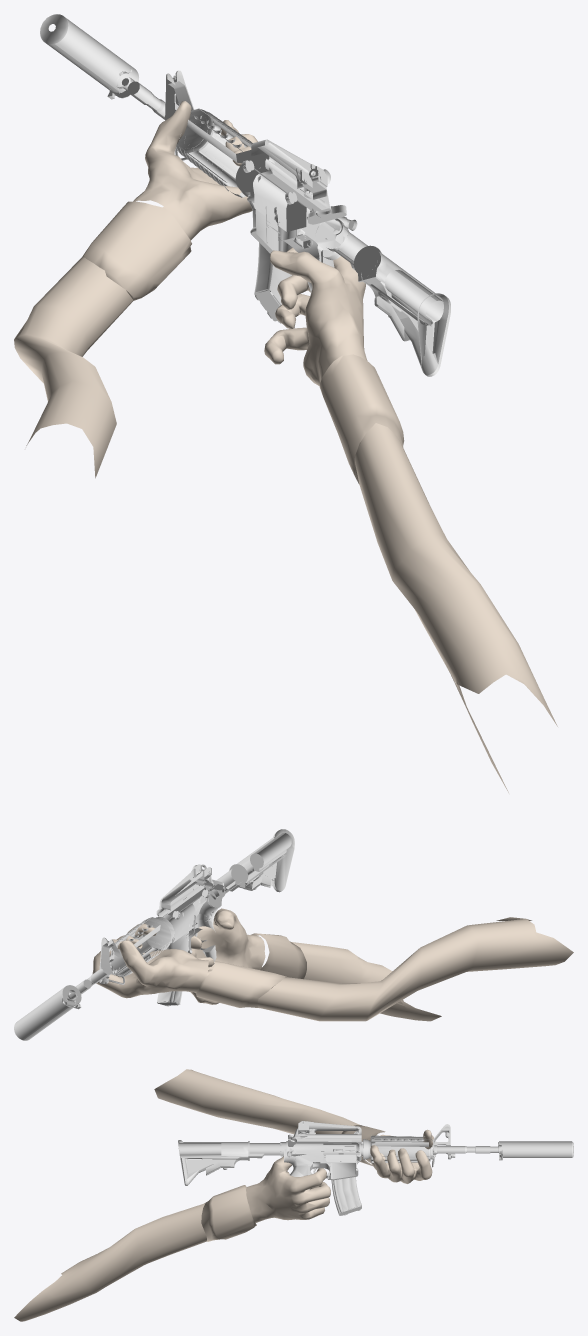
The model's file is m4a1s_posed.glb.
The picture shows the model from 3 angles, top to bottom: view 1: azimuth 30°, elevation 25°; view 2: azimuth 150°, elevation 25°; view 3: azimuth 270°, elevation 25°; orthographic projection. The views are drawn at different scales.
Visible parts, largest first — view 1: char, body; view 2: char, body; view 3: char, body.
Boxes of the visible parts, x1,y1,x2,y2 form: char: [14, 101, 557, 792]; body: [40, 14, 450, 376]; char: [92, 908, 573, 1021]; body: [14, 829, 294, 1040]; char: [14, 1069, 433, 1321]; body: [178, 1121, 573, 1215].
Size of the model in its own units: 0.7132 by 0.5923 by 1.41.
